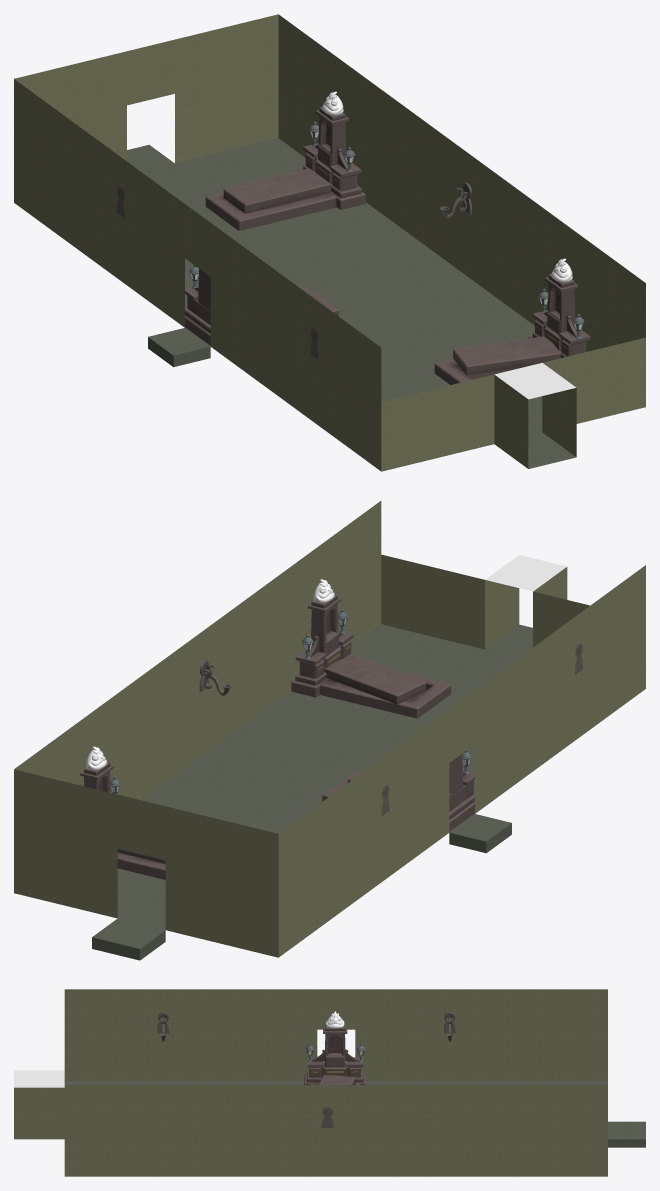
Rendered from 04_HuntingLevel3.fbx.
3 renders of one model, top to bottom at view 1: azimuth 30°, elevation 25°; view 2: azimuth 150°, elevation 25°; view 3: azimuth 270°, elevation 25°, orthographic. The views are drawn at different scales.
Visible parts, largest first — view 1: ROOM_MainHall, RoyalGraveStatic, graveTop, graveTop_1, pillar_1, pillar, graveStructure, graveStructure_1, RoyalGraveStatic_1__1_, RoyalGraveStatic_1; view 2: ROOM_MainHall, RoyalGraveStatic_1__1_, graveTop_1, pillar_1, graveStructure_1, RoyalGraveStatic, RoyalGraveStatic_1; view 3: ROOM_MainHall, pillar_2, graveStructure_2, graveTop_2.
Boxes of the visible parts, x1,y1,x2,y2 form: ROOM_MainHall: (14,14,645,471); RoyalGraveStatic: (205,165,365,230); graveTop: (223,168,331,213); graveTop_1: (453,336,560,375); pillar_1: (544,273,578,334); pillar: (315,107,348,167); graveStructure: (303,143,361,191); graveStructure_1: (532,310,590,356); RoyalGraveStatic_1__1_: (434,332,566,384); RoyalGraveStatic_1: (185,285,338,345); ROOM_MainHall: (14,501,645,960); RoyalGraveStatic_1__1_: (291,653,451,718); graveTop_1: (324,654,425,704); pillar_1: (308,594,341,655); graveStructure_1: (295,630,353,678); RoyalGraveStatic: (117,852,165,879); RoyalGraveStatic_1: (322,770,474,831); ROOM_MainHall: (14,989,645,1176); pillar_2: (323,1024,347,1067); graveStructure_2: (307,1057,363,1077); graveTop_2: (319,1075,355,1084).
Bounding box in the file's own units: 4079 × 1750 × 10000.
